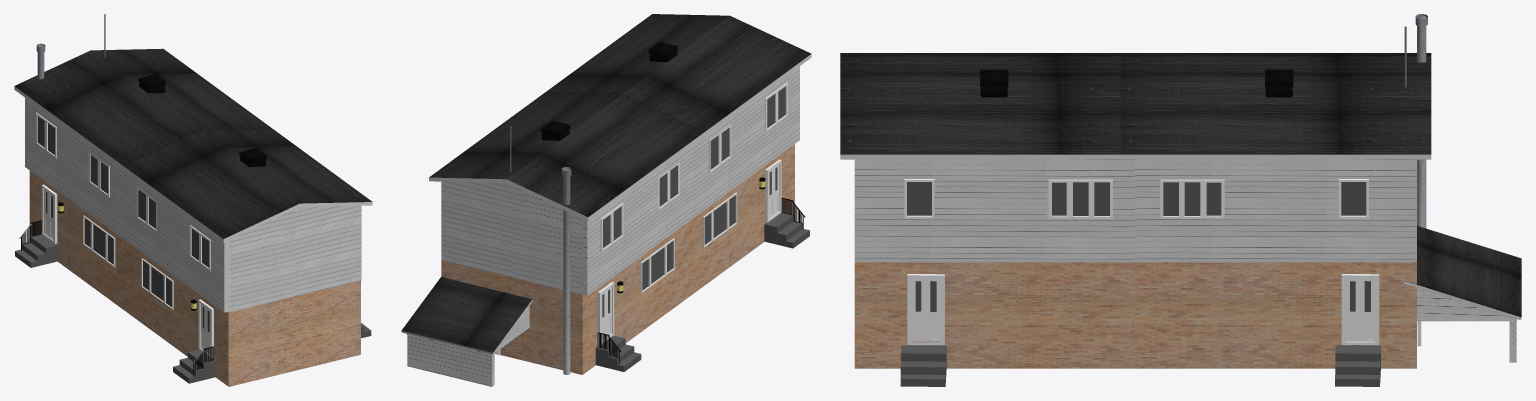
File: House 3.fbx
3 views of the same model, side by side, from view 1: azimuth 30°, elevation 25°; view 2: azimuth 150°, elevation 25°; view 3: azimuth 270°, elevation 25° (orthographic). The views are drawn at different scales.
Parts seen in each view (by area): view 1: Cube.015, Cube.011, Cube.025, Cube.023, Cube.009, Cube.029, Cube, Cube.028, Plane, Plane.001, Cube.017; view 2: Cube.011, Cube.025, Cube, Cube.002, Cube.009, Cube.023, Cube.015, Cube.007, Cube.006, Plane.001, Plane, Cylinder.008 (+2 smaller); view 3: Cube.011, Cube, Cube.015, Cube.025, Cube.004, Cube.018, Plane, Cube.002, Plane.001, Cube.013, Cylinder.008.
Boxes of the visible parts, x1,y1,x2,y2 form: Cube.015: (113, 159, 372, 386); Cube.011: (14, 48, 272, 166); Cube.025: (124, 129, 372, 238); Cube.023: (124, 171, 224, 312); Cube.009: (25, 98, 124, 239); Cube.029: (295, 205, 361, 295); Cube: (14, 86, 129, 313); Cube.028: (229, 209, 295, 311); Plane: (15, 74, 371, 338); Plane.001: (136, 148, 266, 383); Cube.017: (224, 240, 229, 312); Cube.011: (429, 91, 705, 216); Cube.025: (546, 14, 811, 131); Cube: (429, 140, 694, 374); Cube.002: (401, 277, 532, 386); Cube.009: (587, 144, 693, 295); Cube.023: (693, 66, 799, 217); Cube.015: (688, 54, 811, 296); Cube.007: (441, 181, 511, 277); Cube.006: (512, 186, 582, 294); Plane.001: (648, 41, 809, 248); Plane: (494, 120, 679, 371); Cylinder.008: (562, 167, 571, 374); Cube.011: (1120, 53, 1431, 154); Cube: (1120, 154, 1431, 368); Cube.015: (840, 154, 1150, 368); Cube.025: (840, 53, 1120, 154); Cube.004: (1135, 159, 1416, 262); Cube.018: (854, 159, 1136, 262); Plane: (900, 69, 1421, 386); Cube.002: (1403, 226, 1521, 362); Plane.001: (904, 69, 1112, 218); Cube.013: (1417, 288, 1516, 321); Cylinder.008: (1415, 14, 1427, 228).
Size of the model in its own units: 1431 by 1562 by 3208.
